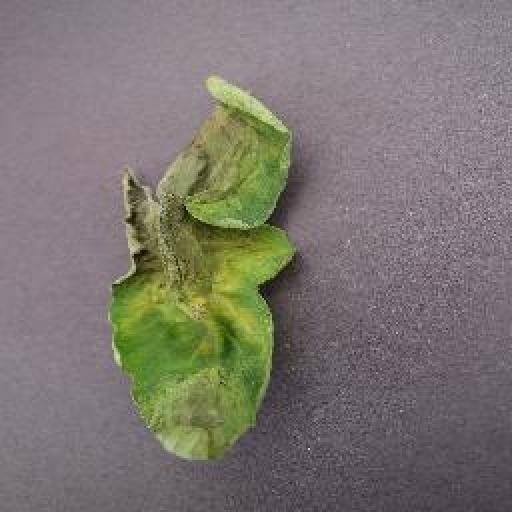Late Blight: (108, 79, 304, 461)
